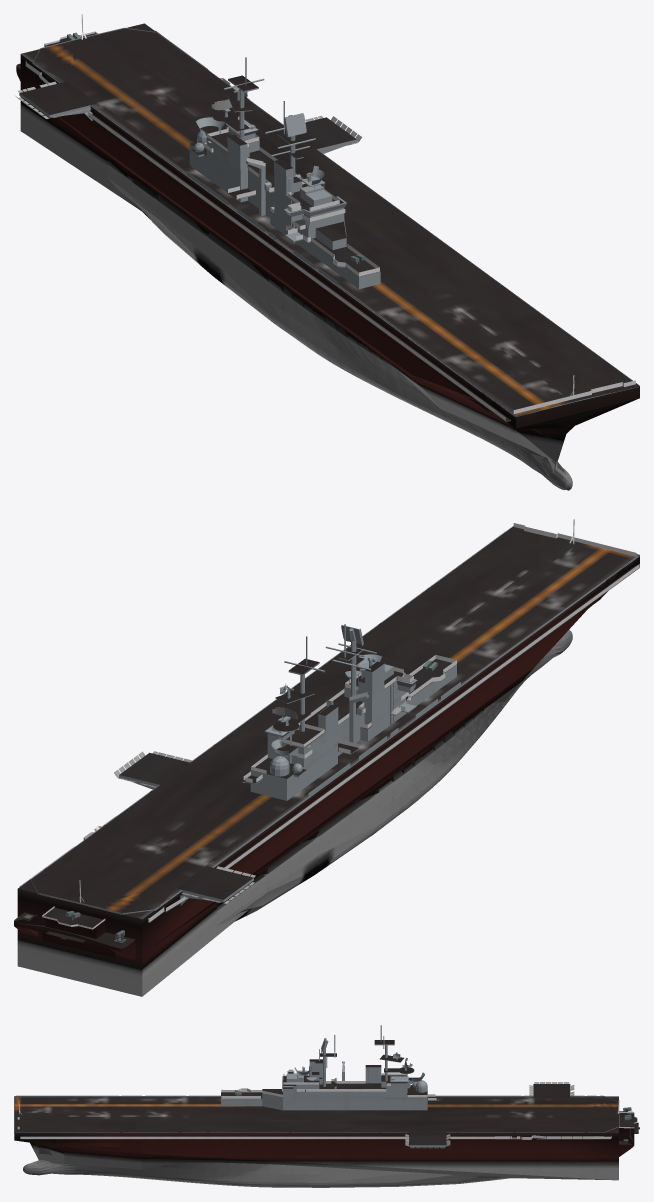
The model's file is LHD1.fbx.
3 renders of one model, top to bottom at view 1: azimuth 30°, elevation 25°; view 2: azimuth 150°, elevation 25°; view 3: azimuth 270°, elevation 25°, orthographic. The views are drawn at different scales.
Parts seen in each view (by area): view 1: LHD1; view 2: LHD1; view 3: LHD1.
Boxes of the visible parts, x1=… form: LHD1: x1=15, y1=14, x2=639, y2=490; LHD1: x1=14, y1=519, x2=639, y2=996; LHD1: x1=14, y1=1025, x2=639, y2=1187.
Size of the model in its own units: 63.41 by 63.64 by 258.
1 material, 1 textured.
